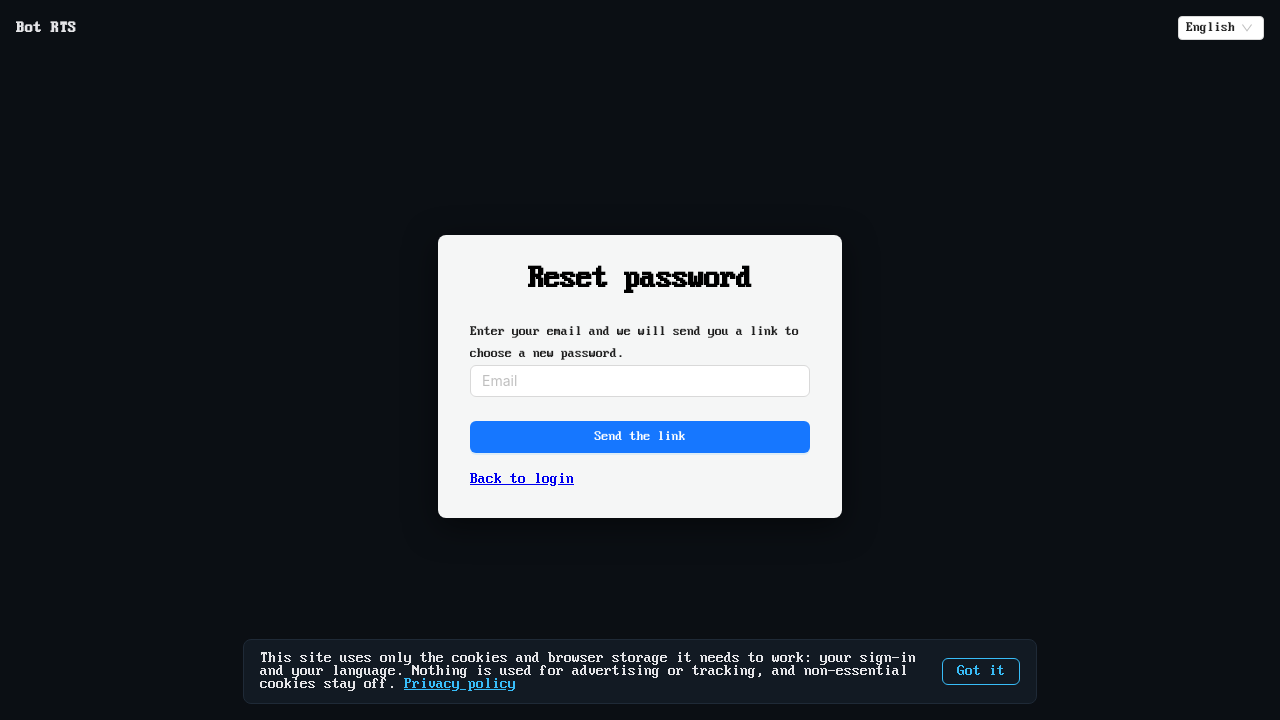
Test: ForgotPasswordPage › asks for the reset letter and confirms
Type "a@b.co" into the field with placeholder "Email" at x=640, y=380, box [470, 364, 810, 396]
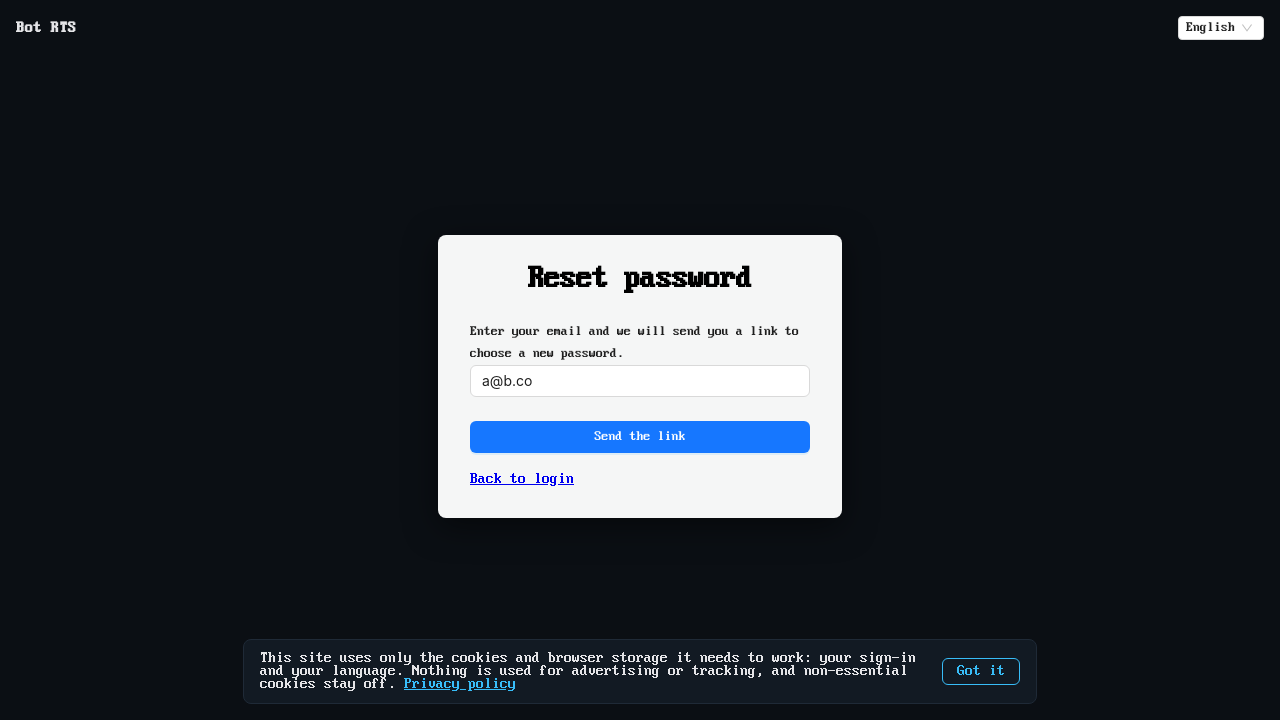
Click the button "Send the link" at x=640, y=436, box [470, 420, 810, 452]
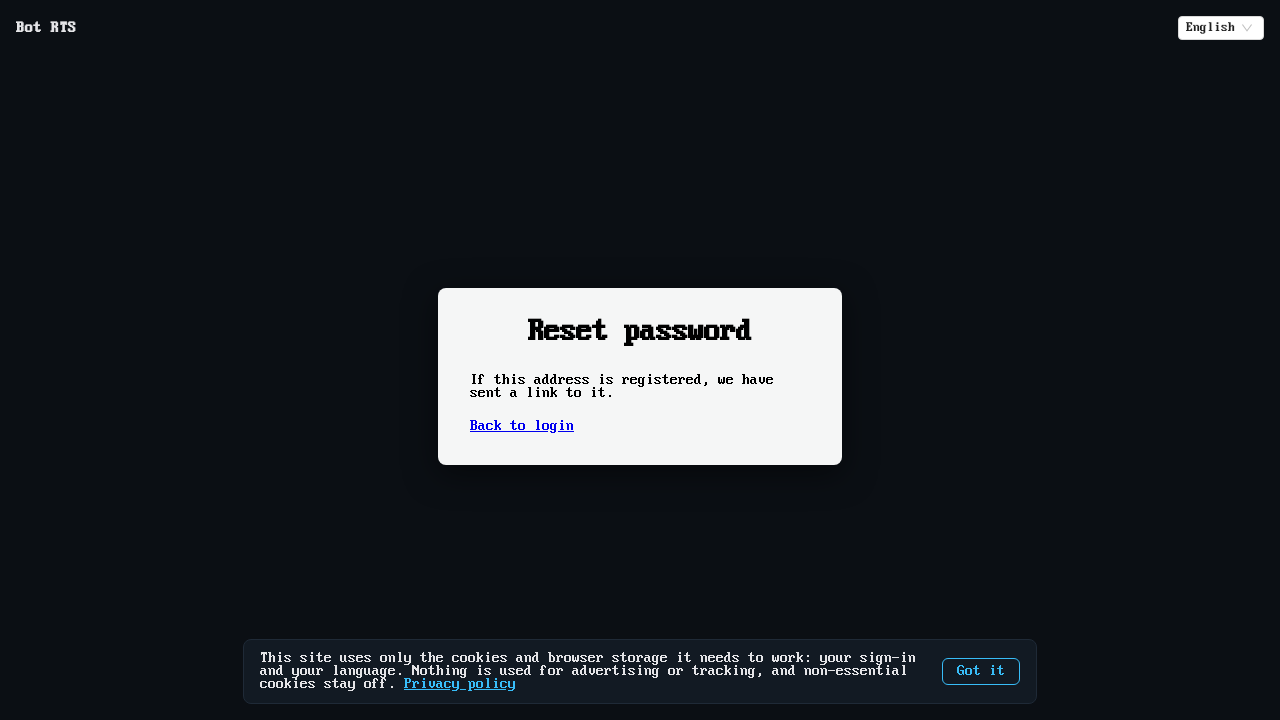
Result: the text "If this address is registered, we have sent a link to it." is shown at [470, 374, 810, 400]
